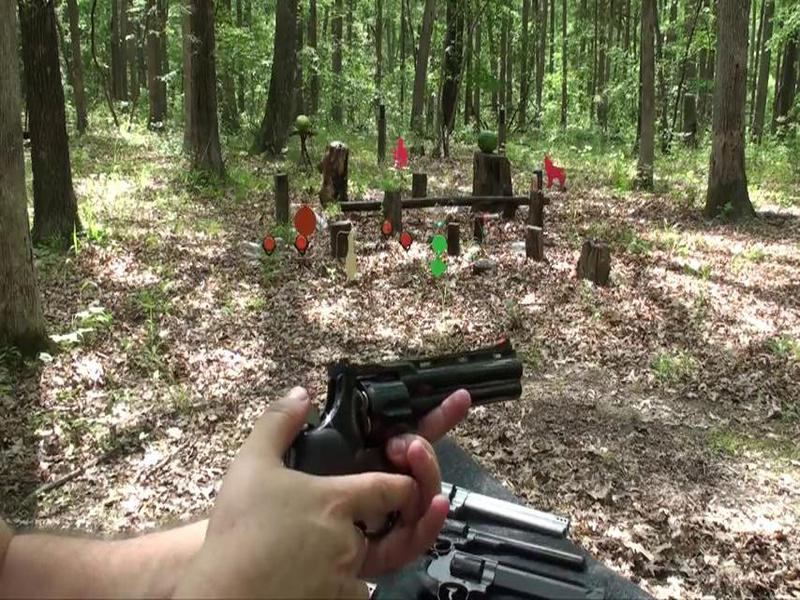Revolver: (253, 324, 535, 550)
